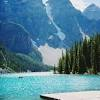beach: (1, 71, 100, 99)
mountain: (1, 1, 100, 70)
